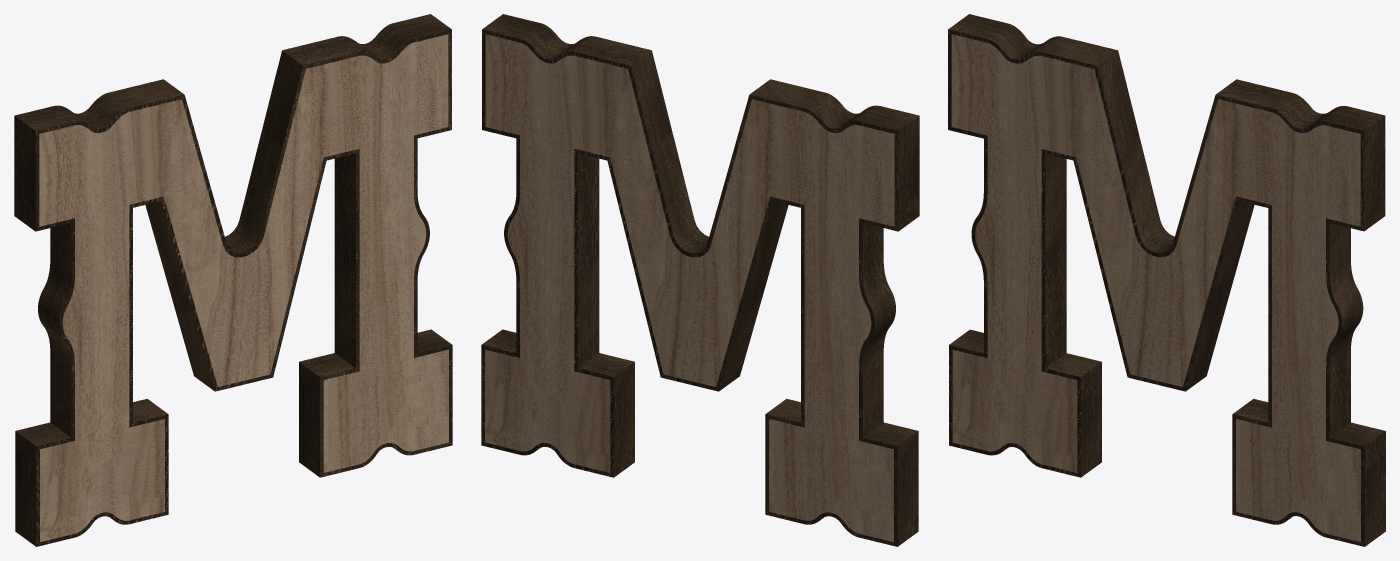
3 renders of one model, left to right at view 1: azimuth 30°, elevation 25°; view 2: azimuth 150°, elevation 25°; view 3: azimuth 330°, elevation 25°, orthographic.
Visible parts, largest first — view 1: M, M_outline; view 2: M, M_outline; view 3: M, M_outline.
Boxes of the visible parts, x1=… form: M: x1=39, y1=34, x2=448, y2=542; M_outline: x1=14, y1=14, x2=452, y2=546; M: x1=485, y1=34, x2=894, y2=542; M_outline: x1=481, y1=14, x2=919, y2=546; M: x1=951, y1=34, x2=1360, y2=541; M_outline: x1=948, y1=14, x2=1385, y2=546.
Bounding box in the file's own units: 114 × 109 × 10.
Materials: 2 (2 with a texture image).
